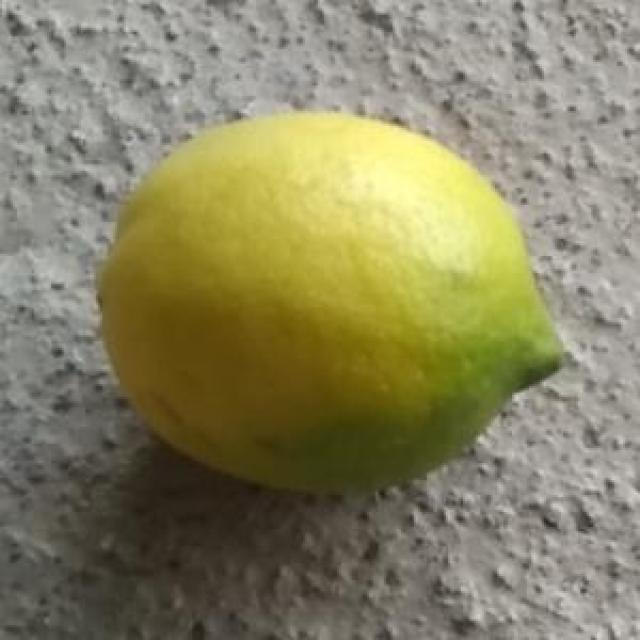lemon: (94, 114, 564, 502)
